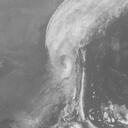cyclone: (44, 27, 85, 90)
